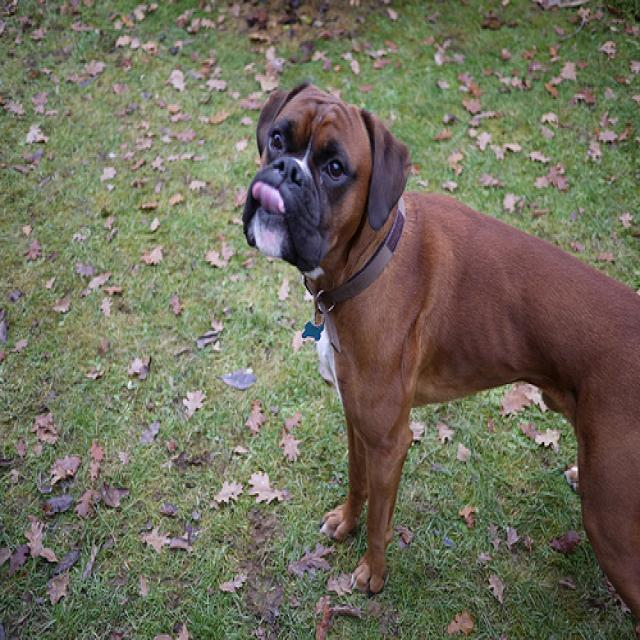dog-boxer: (229, 73, 637, 635)
